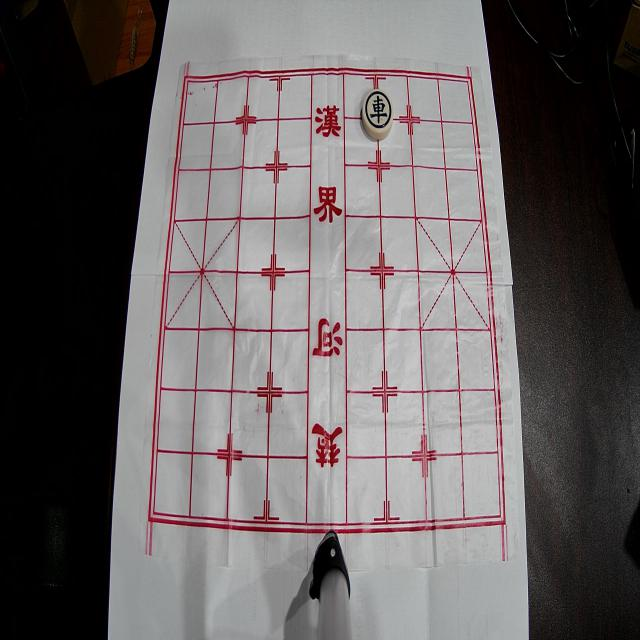black-chariot: (362, 89, 393, 139)
